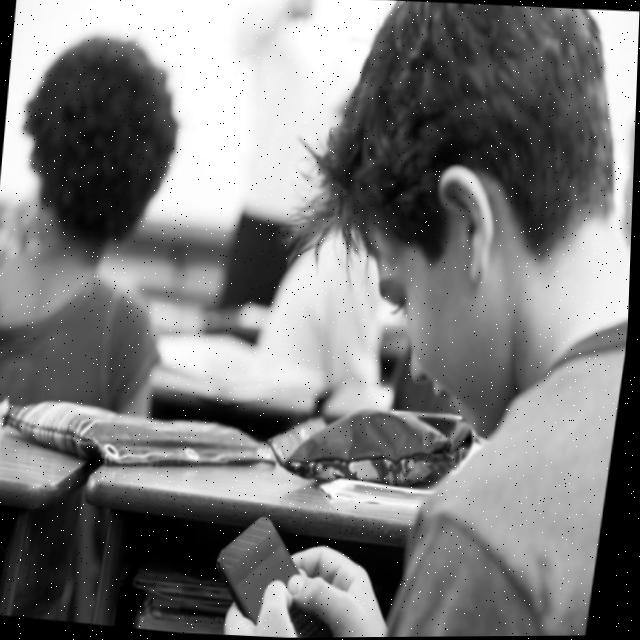phone: (210, 510, 359, 639)
